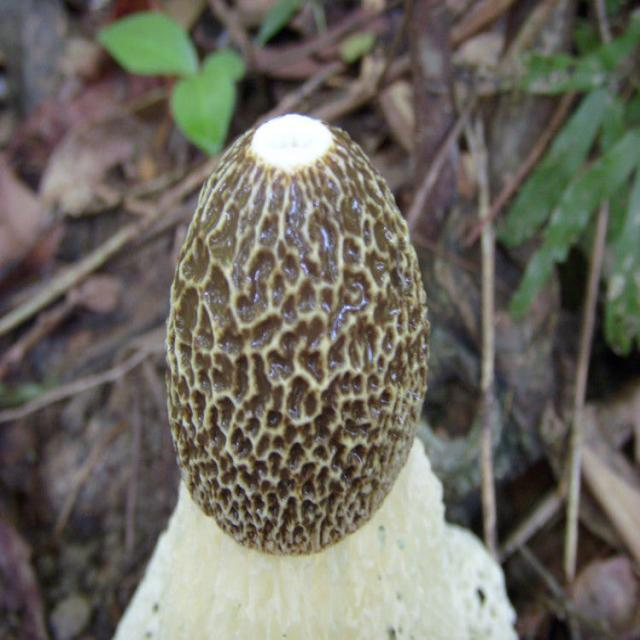Dictyophora indusiate: (113, 114, 518, 640)
